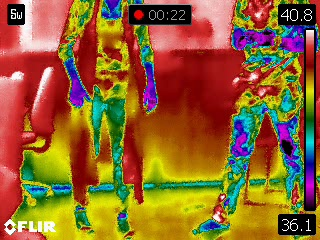human: (194, 1, 317, 237), (54, 1, 158, 239)
